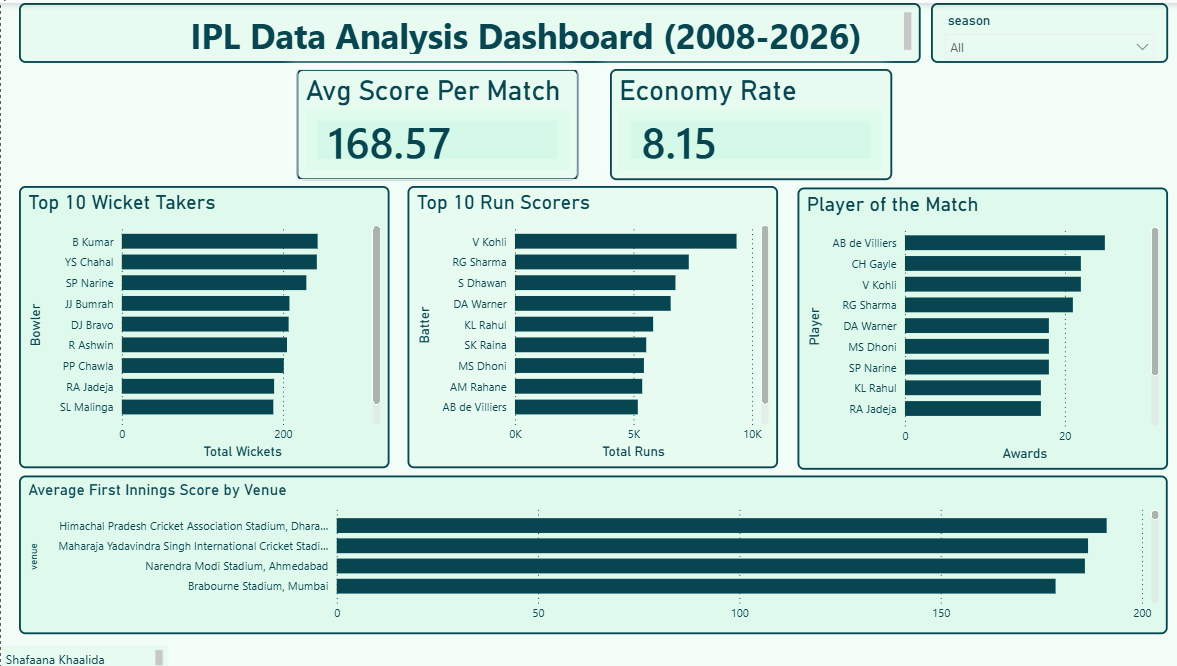

The page's visual inventory and layout, read from the dashboard file:
{"tool":"powerbi","page":{"name":"Player & Venue Analysis","canvas":[1280,720],"ordinal":1},"visuals":[{"type":"clusteredBarChart","title":"Top 10 Run Scorers","fields":{"Category":["ipl_db fact_deliveries.batter"],"Y":["Sum(ipl_db fact_deliveries.runs_batter)"]},"box":[438.8,197.5,399.9,304.4],"z":0},{"type":"clusteredBarChart","title":"Top 10 Wicket Takers","fields":{"Category":["ipl_db fact_deliveries.bowler"],"Y":["Sum(ipl_db fact_deliveries.is_wicket)"]},"box":[19.4,197.5,399.9,304.4],"z":1000},{"type":"clusteredBarChart","title":" Player of the Match","fields":{"Category":["ipl_db dim_match.player_of_match"],"Y":["CountNonNull(ipl_db dim_match.match_id)"]},"box":[859.8,199.2,399.9,304.4],"z":2000},{"type":"clusteredBarChart","title":"Average First Innings Score by Venue","fields":{"Category":["ipl_db dim_match.venue"],"Y":["ipl_db dim_match.Avg Score Per Match"]},"box":[19.4,510.1,1240.3,171.6],"z":3000},{"type":"slicer","title":"Toss Decision Split","fields":{"Values":["ipl_db dim_match.season"]},"box":[1003.9,0,255.8,64.8],"z":4000},{"type":"textbox","box":[19.4,0,973.2,64.8],"z":5000},{"type":"cardVisual","title":"Avg Score Per Match","fields":{"Data":["ipl_db dim_match.Avg Score Per Match"]},"box":[319,71.2,304.4,119.8],"z":6000},{"type":"cardVisual","title":"Economy Rate","fields":{"Data":["ipl_db dim_match.Economy Rate"]},"box":[657.4,71.2,304.4,119.8],"z":7000},{"type":"textbox","box":[0,693,179.7,27.5],"z":8000}]}

Visuals, with their boxes in screenshot pixels (x1, y1, x2, y2), scaled from the page's 1280x720 canvas onto the 1177x666 screenshot:
"Top 10 Run Scorers" clusteredBarChart: region(403, 183, 771, 464)
"Top 10 Wicket Takers" clusteredBarChart: region(18, 183, 386, 464)
" Player of the Match" clusteredBarChart: region(791, 184, 1158, 466)
"Average First Innings Score by Venue" clusteredBarChart: region(18, 472, 1158, 631)
"Toss Decision Split" slicer: region(923, 0, 1158, 60)
textbox: region(18, 0, 913, 60)
"Avg Score Per Match" cardVisual: region(293, 66, 573, 177)
"Economy Rate" cardVisual: region(604, 66, 884, 177)
textbox: region(0, 641, 165, 665)
